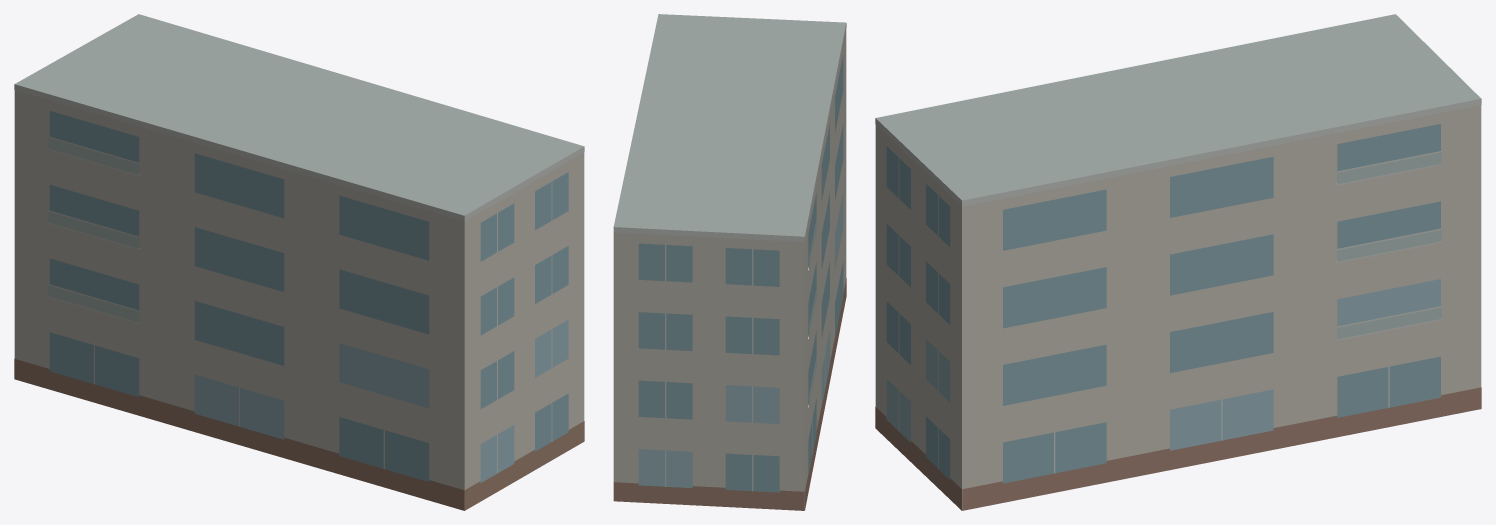
File: survey-upis-32966022.glb
3 renders of one model, left to right at view 1: azimuth 30°, elevation 25°; view 2: azimuth 150°, elevation 25°; view 3: azimuth 270°, elevation 25°, orthographic. The views are drawn at different scales.
Visible parts, largest first — view 1: survey-upis-32966022.tmp; view 2: survey-upis-32966022.tmp; view 3: survey-upis-32966022.tmp.
Boxes of the visible parts, x1,y1,x2,y2 form: survey-upis-32966022.tmp: [14, 14, 584, 510]; survey-upis-32966022.tmp: [613, 14, 846, 510]; survey-upis-32966022.tmp: [875, 14, 1481, 510].
Bounding box in the file's own units: 15.75 × 12.2 × 21.6.
